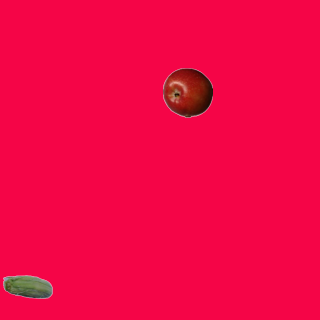Apple Braeburn: (162, 67, 212, 117)
Corn Husk: (2, 263, 52, 313)
